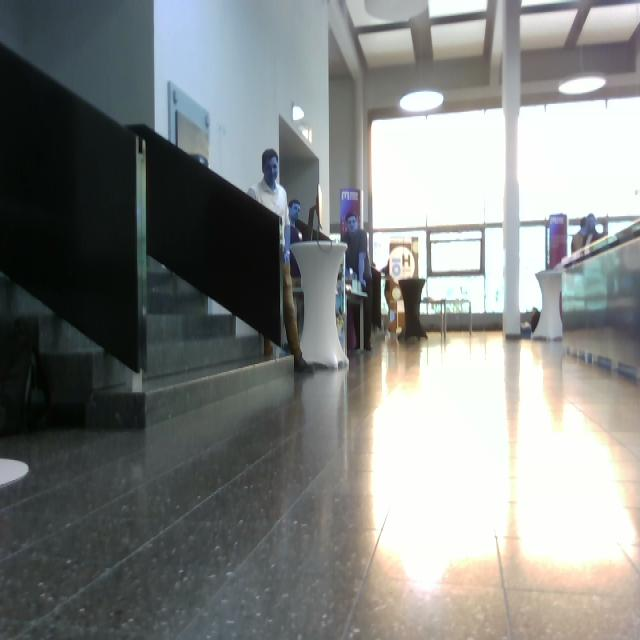door: (133, 122, 268, 381)
light bulb: (558, 46, 607, 96), (364, 1, 429, 24), (558, 73, 607, 96), (400, 89, 444, 113), (190, 153, 209, 168), (317, 184, 323, 229), (292, 105, 305, 121)
person: (247, 149, 315, 374), (342, 212, 374, 352)
pillar: (502, 1, 523, 340)
table: (289, 239, 353, 375)
tiled floor: (1, 325, 639, 638)
window: (370, 95, 639, 327)
